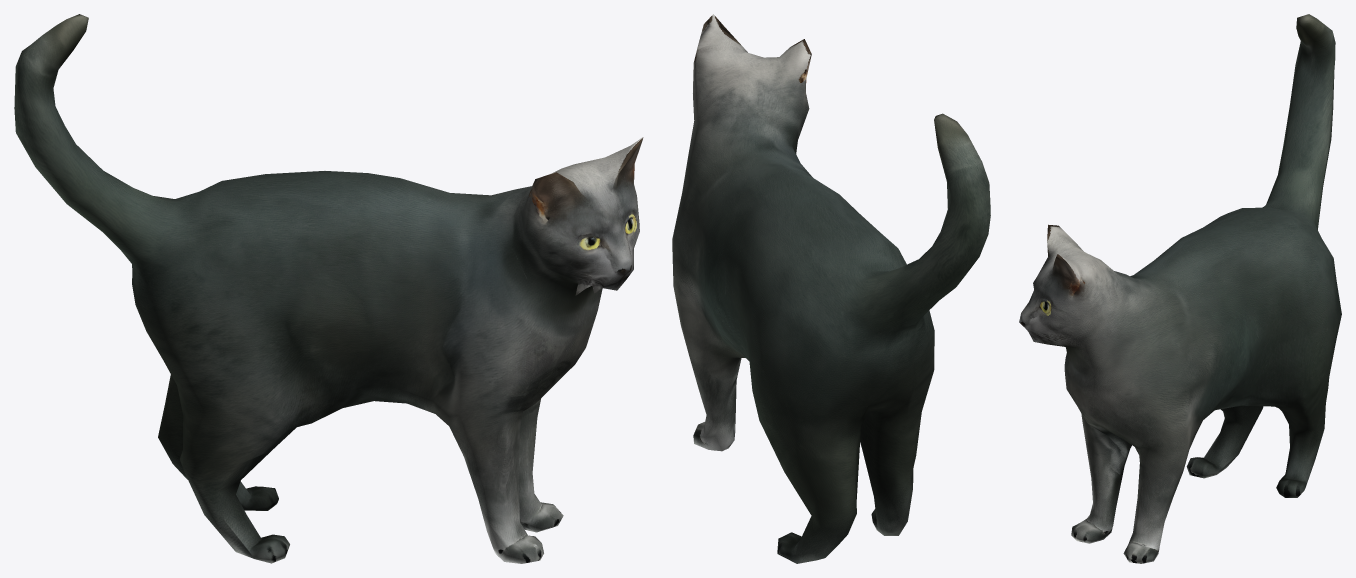
File: cat_all_black_single_1500.glb
3 renders of one model, left to right at view 1: azimuth 30°, elevation 25°; view 2: azimuth 150°, elevation 25°; view 3: azimuth 270°, elevation 25°, orthographic. The views are drawn at different scales.
Bounding box in the file's own units: 0.8371 × 0.9028 × 0.6401.
Materials: 1 (1 with a texture image).
